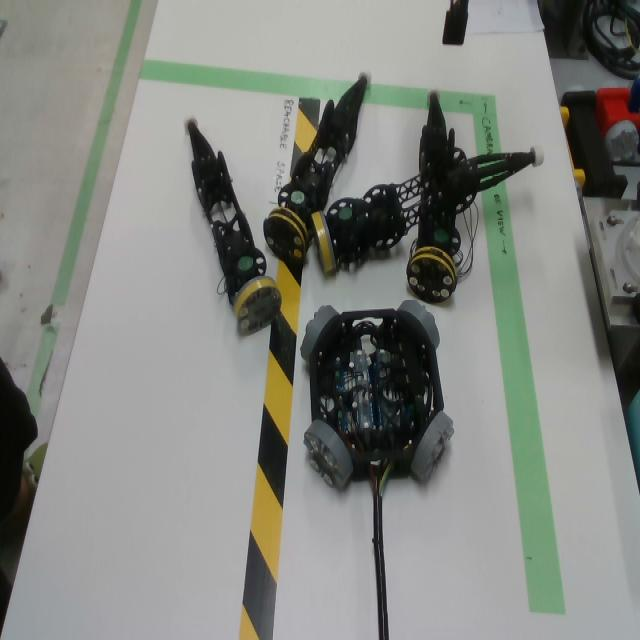body: (311, 308, 444, 483)
body_connector: (304, 420, 353, 488), (411, 412, 455, 484), (299, 305, 340, 363), (397, 300, 441, 349)
leg: (311, 143, 546, 276), (183, 112, 282, 336), (263, 68, 373, 263), (406, 86, 461, 305)
leg_connector: (233, 276, 283, 337), (406, 247, 457, 301), (262, 208, 308, 260), (311, 212, 337, 273)
leg_marker: (237, 256, 253, 271), (434, 228, 450, 243), (291, 191, 305, 204), (339, 208, 352, 219)
